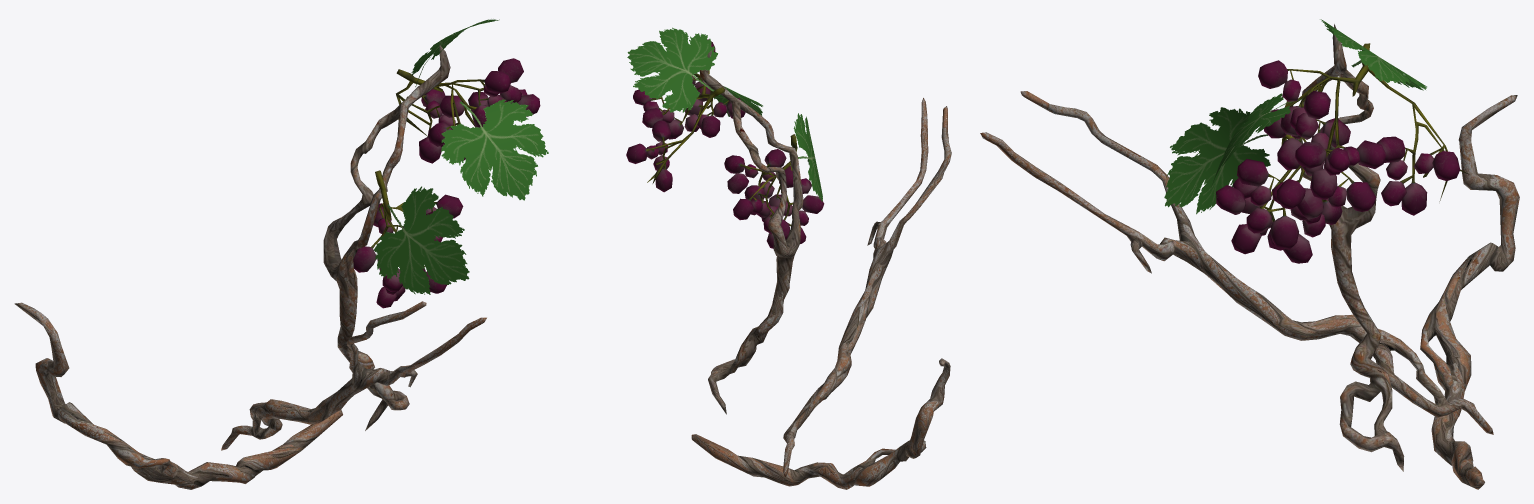
The model's file is Uvas_v01.fbx.
3 views of the same model, side by side, from view 1: azimuth 30°, elevation 25°; view 2: azimuth 150°, elevation 25°; view 3: azimuth 270°, elevation 25° (orthographic). The views are drawn at different scales.
Parts seen in each view (by area): view 1: Env_Roots_Big_7_SM.002, Env_Roots_Big_12_SM, Leaf.001, Leaf.004, Env_Roots_Big_8_SM.002, Grapes_And_Orange_Slice.002, Grapes_And_Orange_Slice.004; view 2: Env_Roots_Big_12_SM, Env_Roots_Big_8_SM.002, Env_Roots_Big_7_SM.002, Leaf, Grapes_And_Orange_Slice.002, Grapes_And_Orange_Slice.004, Leaf.004, Leaf.001; view 3: Grapes_And_Orange_Slice.002, Env_Roots_Big_8_SM.002, Env_Roots_Big_7_SM.002, Env_Roots_Big_12_SM, Grapes_And_Orange_Slice.004, Leaf.004, Leaf, Leaf.001.
Part boxes in pixels (box(x1,y1,x2,y2)): Env_Roots_Big_7_SM.002: box(14, 302, 342, 489); Env_Roots_Big_12_SM: box(323, 45, 450, 430); Leaf.001: box(441, 99, 548, 200); Leaf.004: box(374, 186, 469, 294); Env_Roots_Big_8_SM.002: box(221, 301, 486, 450); Grapes_And_Orange_Slice.002: box(396, 58, 540, 163); Grapes_And_Orange_Slice.004: box(353, 170, 463, 308); Env_Roots_Big_12_SM: box(699, 49, 803, 414); Env_Roots_Big_8_SM.002: box(783, 98, 951, 477); Env_Roots_Big_7_SM.002: box(691, 358, 950, 489); Leaf: box(627, 27, 719, 112); Grapes_And_Orange_Slice.002: box(626, 39, 745, 192); Grapes_And_Orange_Slice.004: box(724, 134, 824, 248); Leaf.004: box(793, 113, 822, 201); Leaf.001: box(694, 73, 762, 116); Grapes_And_Orange_Slice.002: box(1258, 43, 1469, 215); Env_Roots_Big_8_SM.002: box(980, 91, 1493, 434); Env_Roots_Big_7_SM.002: box(1420, 95, 1519, 489); Env_Roots_Big_12_SM: box(1292, 24, 1404, 471); Grapes_And_Orange_Slice.004: box(1216, 101, 1375, 263); Leaf.004: box(1164, 107, 1270, 214); Leaf: box(1320, 19, 1426, 90); Leaf.001: box(1211, 93, 1302, 187).
Size of the model in its own units: 947 by 946 by 842.
